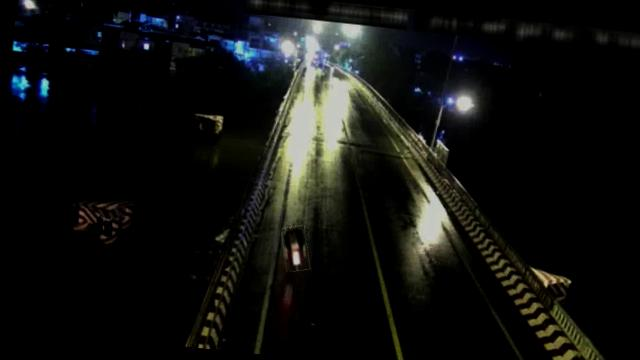Bike: (279, 224, 312, 274)
